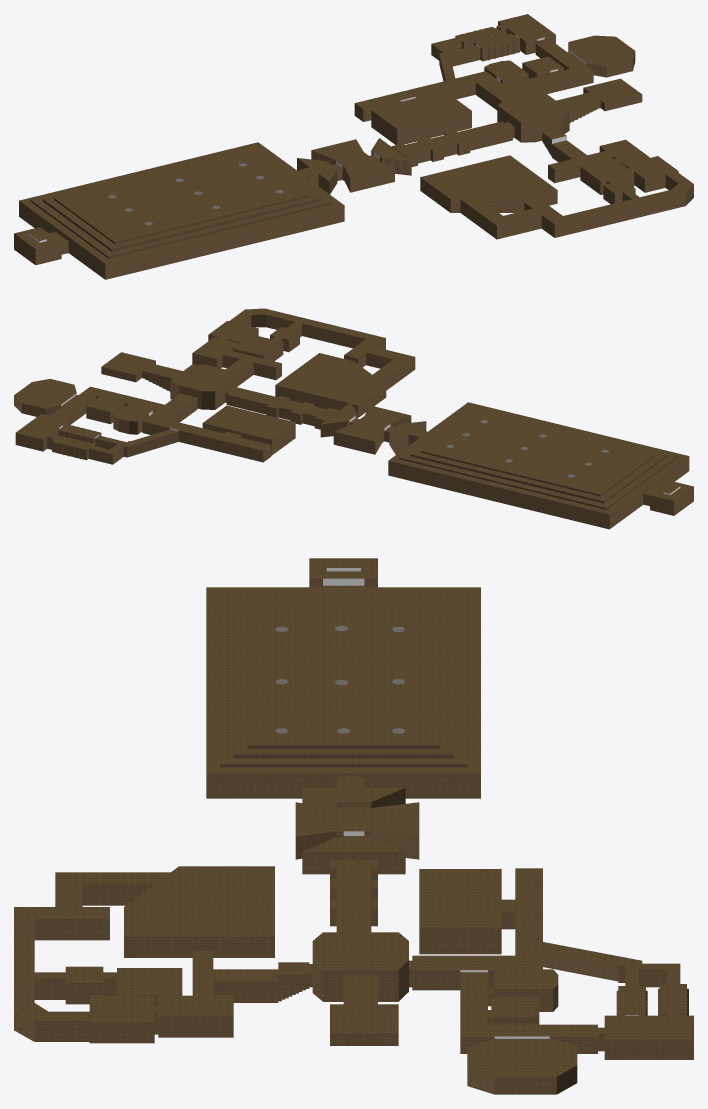
The model's file is test levil 01.fbx.
3 renders of one model, top to bottom at view 1: azimuth 30°, elevation 25°; view 2: azimuth 150°, elevation 25°; view 3: azimuth 270°, elevation 25°, orthographic. The views are drawn at different scales.
Parts seen in each view (by area): view 1: MAP02; view 2: MAP02; view 3: MAP02.
Part boxes in pixels (x1,y1,x2,y2): MAP02: (14, 14, 693, 279); MAP02: (14, 308, 693, 529); MAP02: (14, 558, 693, 1094).
Size of the model in its own units: 16896 by 768 by 9504.
Materials: 8 (7 with a texture image).
